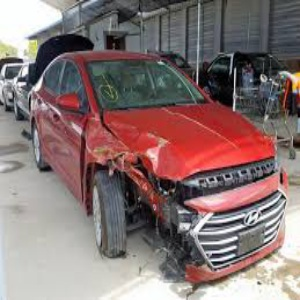bonnet: (110, 117, 173, 179)
bumper: (135, 194, 209, 292)
